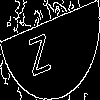Z: (25, 24, 52, 76)
